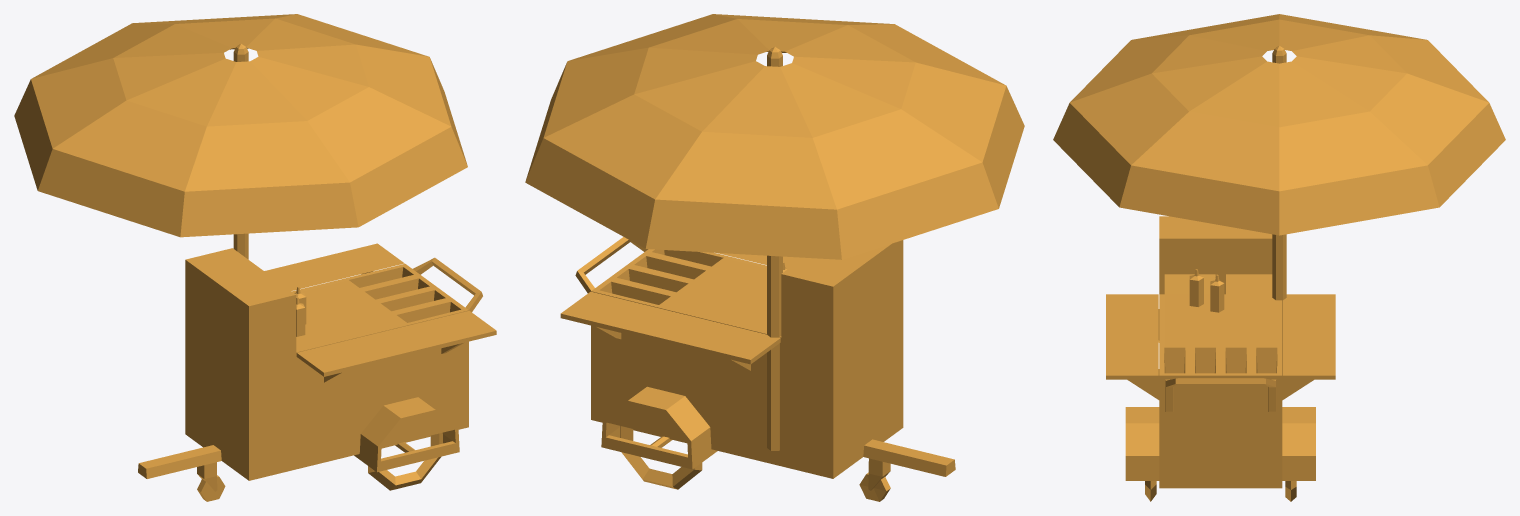
File: hot-dog-stand.glb
3 views of the same model, side by side, from view 1: azimuth 30°, elevation 25°; view 2: azimuth 150°, elevation 25°; view 3: azimuth 270°, elevation 25° (orthographic). The views are drawn at different scales.
Visible parts, largest first — view 1: hot-dog-stand; view 2: hot-dog-stand; view 3: hot-dog-stand.
Boxes of the visible parts, x1,y1,x2,y2 form: hot-dog-stand: (14,14,496,501); hot-dog-stand: (525,14,1024,501); hot-dog-stand: (1053,14,1505,501).
Bounding box in the file's own units: 2.58 × 2.54 × 2.58.
